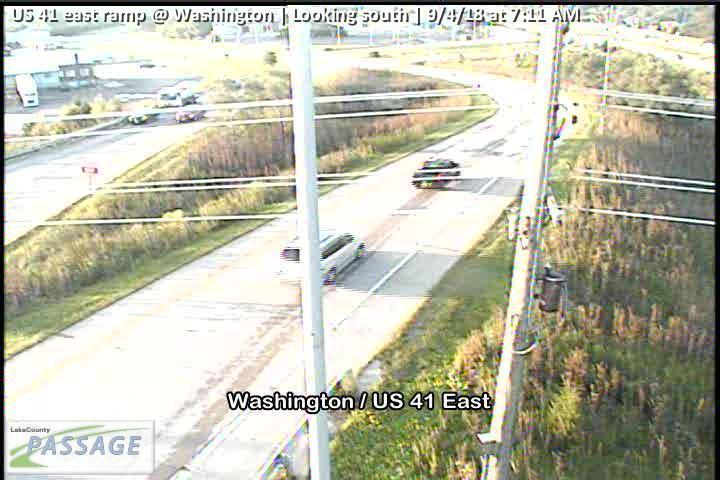SUV: (276, 228, 366, 284)
Sedan: (410, 158, 463, 191), (175, 106, 209, 123), (126, 109, 158, 125)
Truck: (14, 73, 40, 109)
